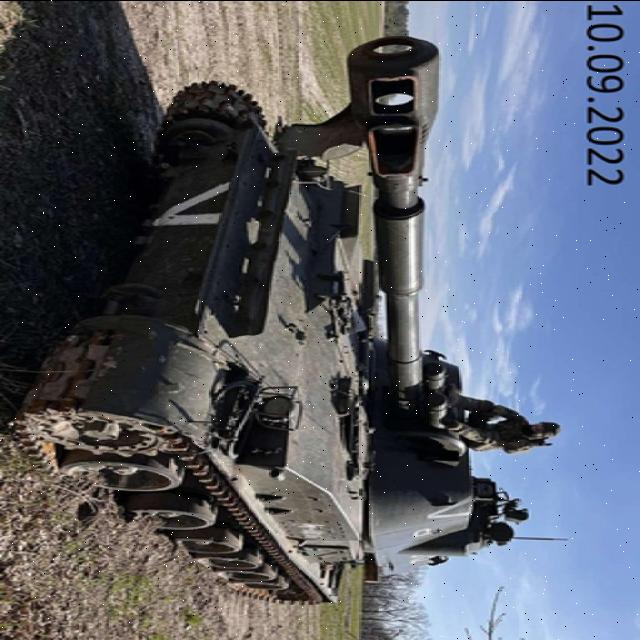ART: (11, 29, 509, 605)
